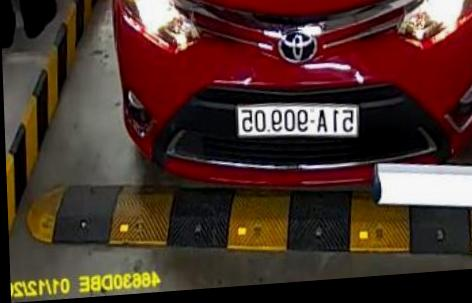License_Plate: (230, 96, 363, 145)
